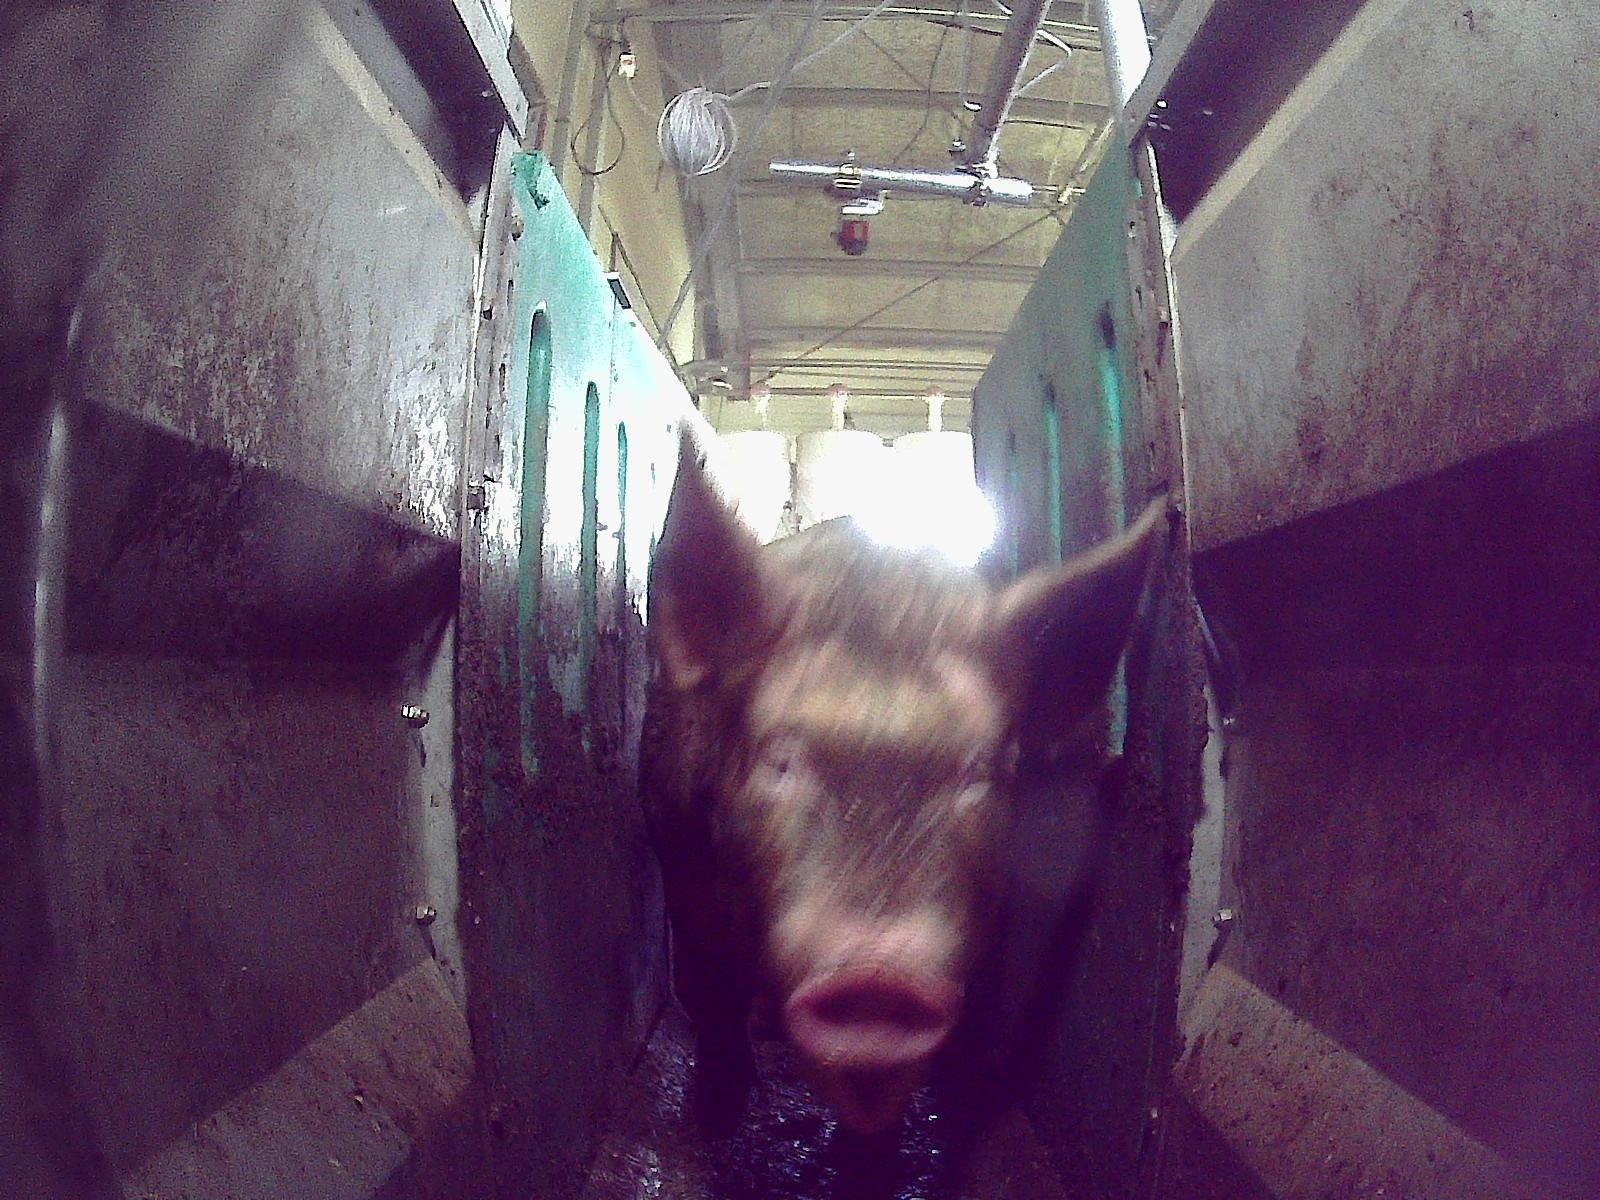Face: (731, 634, 1013, 1132)
